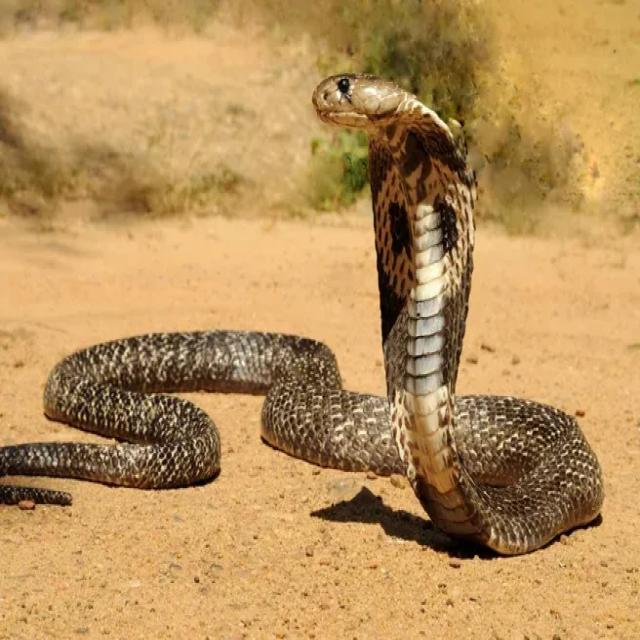Venomous: (299, 56, 516, 411)
